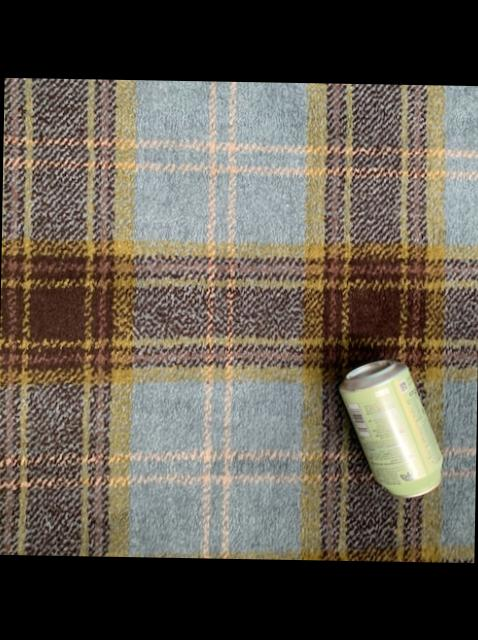metal: (341, 359, 444, 495)
